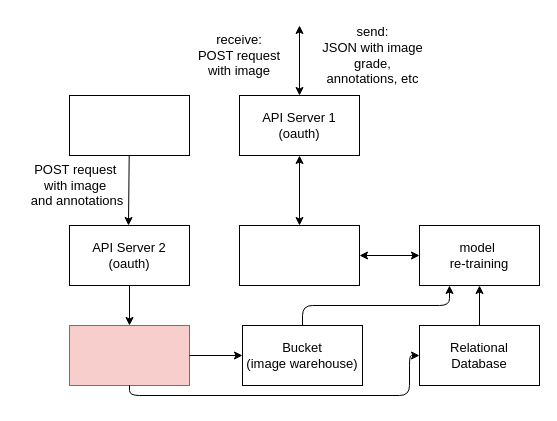
Image size: 557x421. Some labels were removed from this diagram. The box of each missing label's shape, as (x1, y1, x2, y2) in pixels:
Image Annotation UI: (68, 94, 190, 156)
image pre-screening (Google Vision API): (68, 324, 190, 386)
trained model server cluster: (238, 224, 360, 286)
